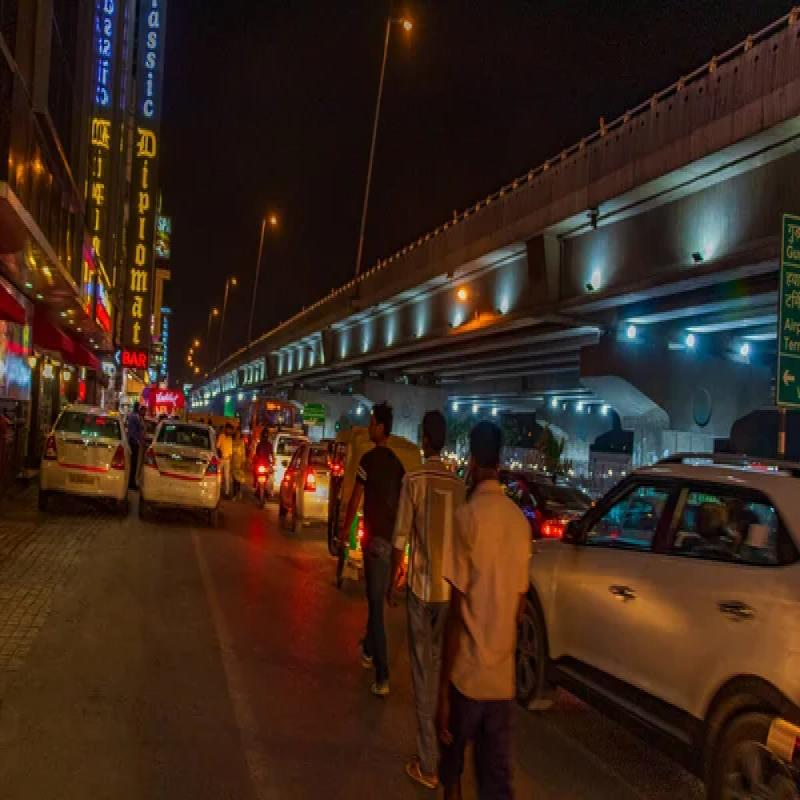car: (520, 440, 800, 794), (37, 384, 126, 523), (137, 400, 227, 534)
